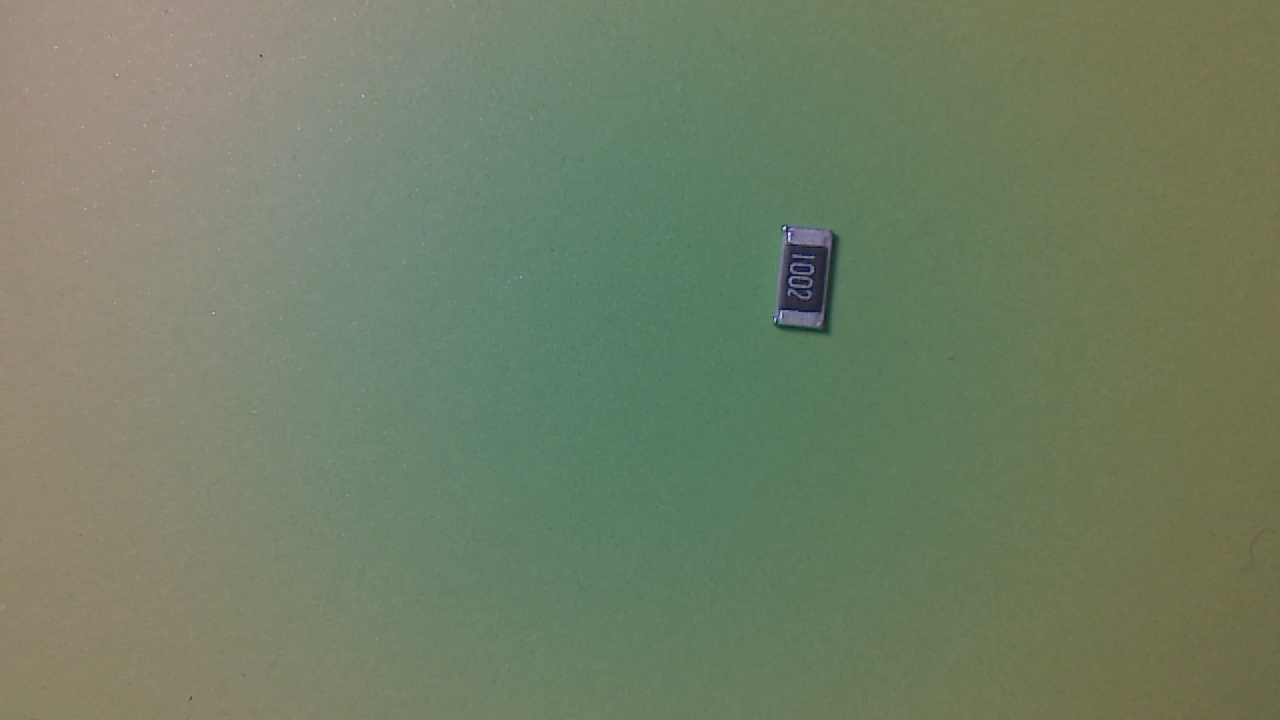Resistor: (772, 227, 845, 346)
